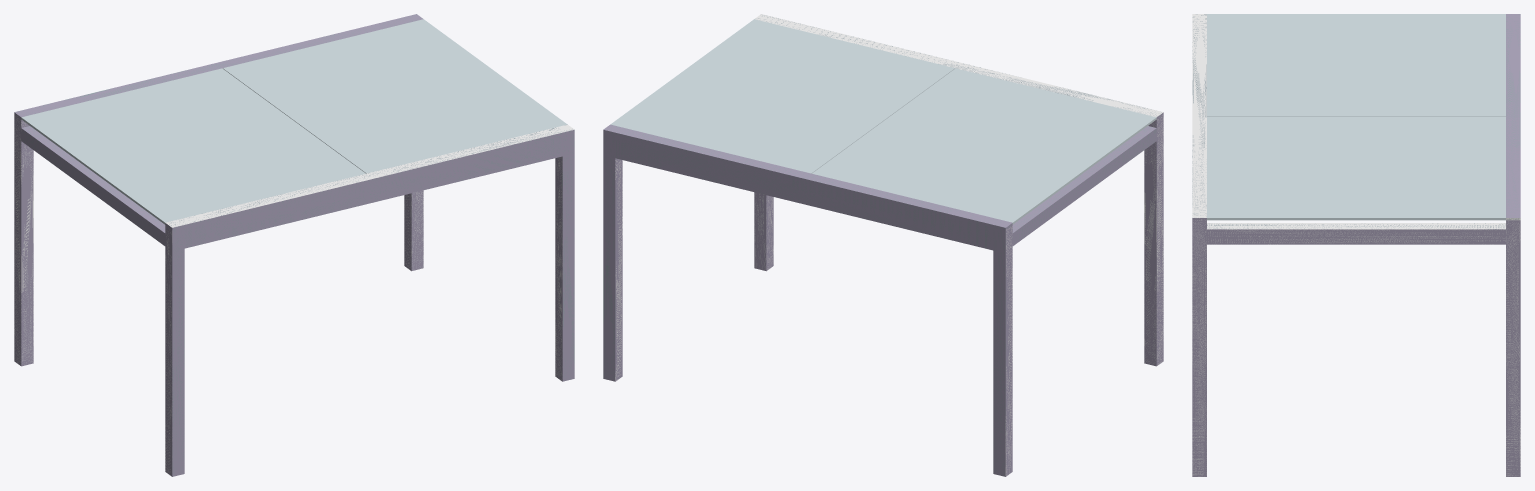
Rendered from dtable.dae.
3 views of the same model, side by side, from view 1: azimuth 30°, elevation 25°; view 2: azimuth 150°, elevation 25°; view 3: azimuth 270°, elevation 25° (orthographic). The views are drawn at different scales.
Visible parts, largest first — view 1: instance_0 (×3); view 2: instance_0 (×3); view 3: instance_0 (×3).
Boxes of the visible parts, left/top/right/bottom form: instance_0 (×3): left=14, top=14, right=574, bottom=476; instance_0 (×3): left=603, top=14, right=1163, bottom=476; instance_0 (×3): left=1192, top=14, right=1520, bottom=476.
Bounding box in the file's own units: 49.25 × 33.5 × 29.12.
